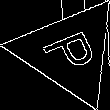P_NE: (36, 25, 102, 78)
